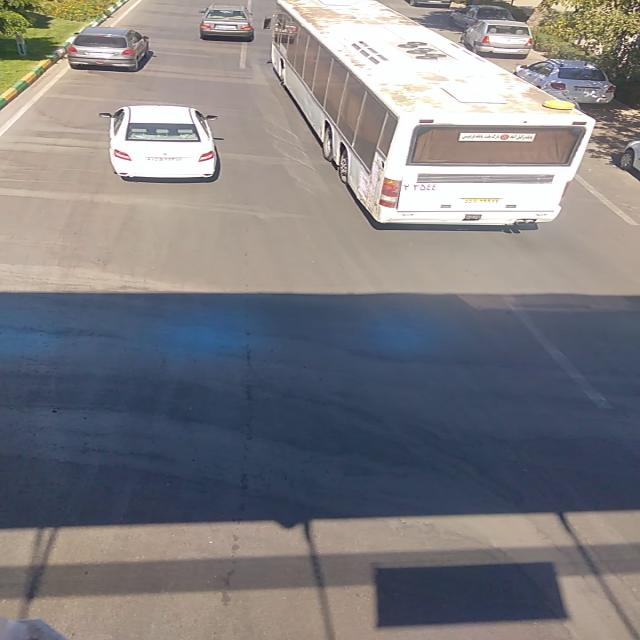bus: (260, 0, 598, 226)
car: (100, 106, 222, 182), (513, 58, 617, 105), (69, 25, 151, 70), (462, 21, 532, 57), (194, 4, 257, 41)
